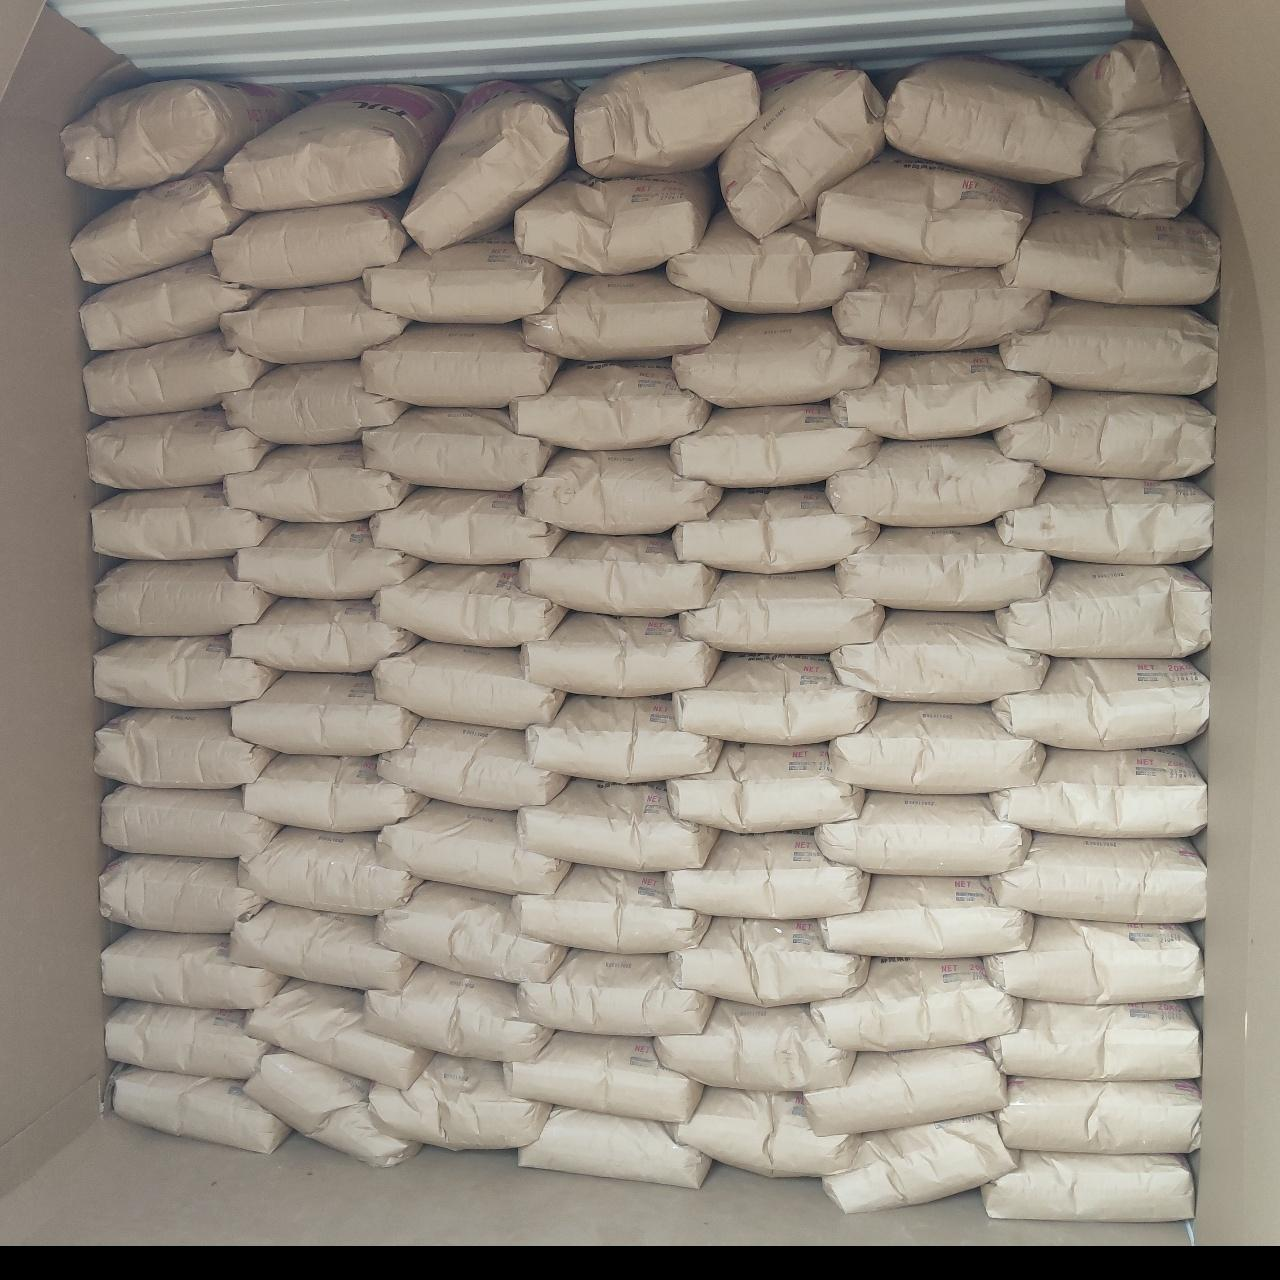sack: (228, 84, 454, 206), (720, 68, 884, 236), (406, 84, 570, 246), (886, 58, 1094, 182), (1060, 40, 1204, 214), (62, 82, 296, 188), (816, 154, 1030, 262), (1002, 196, 1218, 302), (576, 60, 758, 174), (834, 258, 1050, 350), (1000, 298, 1216, 390), (246, 980, 430, 1088), (996, 388, 1214, 478), (74, 170, 246, 284), (998, 562, 1210, 654), (516, 172, 714, 270), (246, 1052, 418, 1164), (832, 612, 1046, 702), (668, 214, 868, 310), (832, 350, 1050, 438), (674, 312, 878, 406), (996, 476, 1212, 564), (828, 436, 1042, 524), (992, 748, 1206, 836), (376, 882, 564, 982), (994, 660, 1206, 748), (832, 702, 1042, 790), (824, 1116, 1014, 1212), (990, 834, 1206, 918), (812, 960, 1020, 1046), (984, 918, 1202, 1000), (518, 780, 716, 870), (674, 654, 876, 742), (364, 232, 566, 320), (836, 526, 1052, 608), (366, 964, 550, 1060), (816, 792, 1030, 874), (674, 486, 878, 572), (656, 1002, 854, 1090), (806, 1044, 1004, 1132), (378, 802, 566, 894), (504, 1032, 702, 1118), (668, 832, 866, 918), (370, 1054, 550, 1148), (214, 198, 406, 286), (672, 404, 878, 486), (670, 918, 866, 1004), (820, 876, 1030, 956), (668, 744, 862, 830), (524, 272, 718, 358), (510, 362, 708, 446), (680, 570, 882, 652), (82, 256, 262, 348), (528, 696, 718, 782), (524, 448, 718, 532), (514, 866, 708, 950), (378, 720, 566, 806), (986, 1002, 1198, 1078), (362, 324, 558, 406), (522, 612, 718, 694), (670, 1088, 856, 1174), (520, 950, 710, 1034), (374, 642, 564, 726), (520, 534, 718, 614), (232, 902, 414, 988), (376, 564, 564, 646), (86, 332, 270, 414), (222, 280, 406, 362), (518, 1108, 710, 1186), (240, 828, 418, 912), (364, 408, 552, 486), (114, 1066, 288, 1150), (224, 362, 406, 442), (996, 1078, 1198, 1150), (370, 488, 564, 562), (88, 408, 270, 486), (982, 1152, 1190, 1220), (234, 522, 420, 598), (232, 674, 414, 750), (102, 930, 284, 1006), (226, 444, 408, 518), (92, 486, 276, 558), (96, 558, 274, 632), (244, 756, 422, 830), (96, 636, 278, 708), (100, 854, 264, 932), (232, 600, 414, 670), (96, 710, 270, 782), (108, 1002, 270, 1078), (102, 786, 278, 854)
